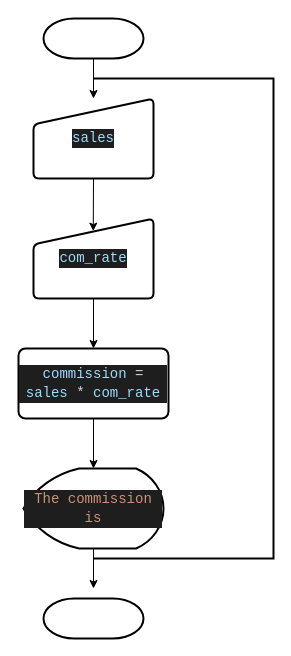
Some shapes in this 291 by 656 pixel diagram are drawn without their labels. Each missing label, with the centre of its shape:
end: the point at 93,618
start: the point at 93,38
